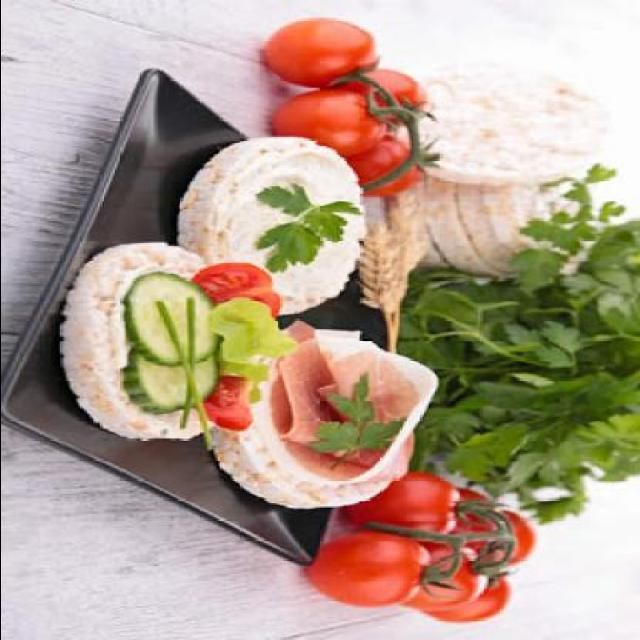Gallette di riso packaged: (222, 320, 424, 512), (54, 240, 238, 438), (185, 138, 367, 320)
